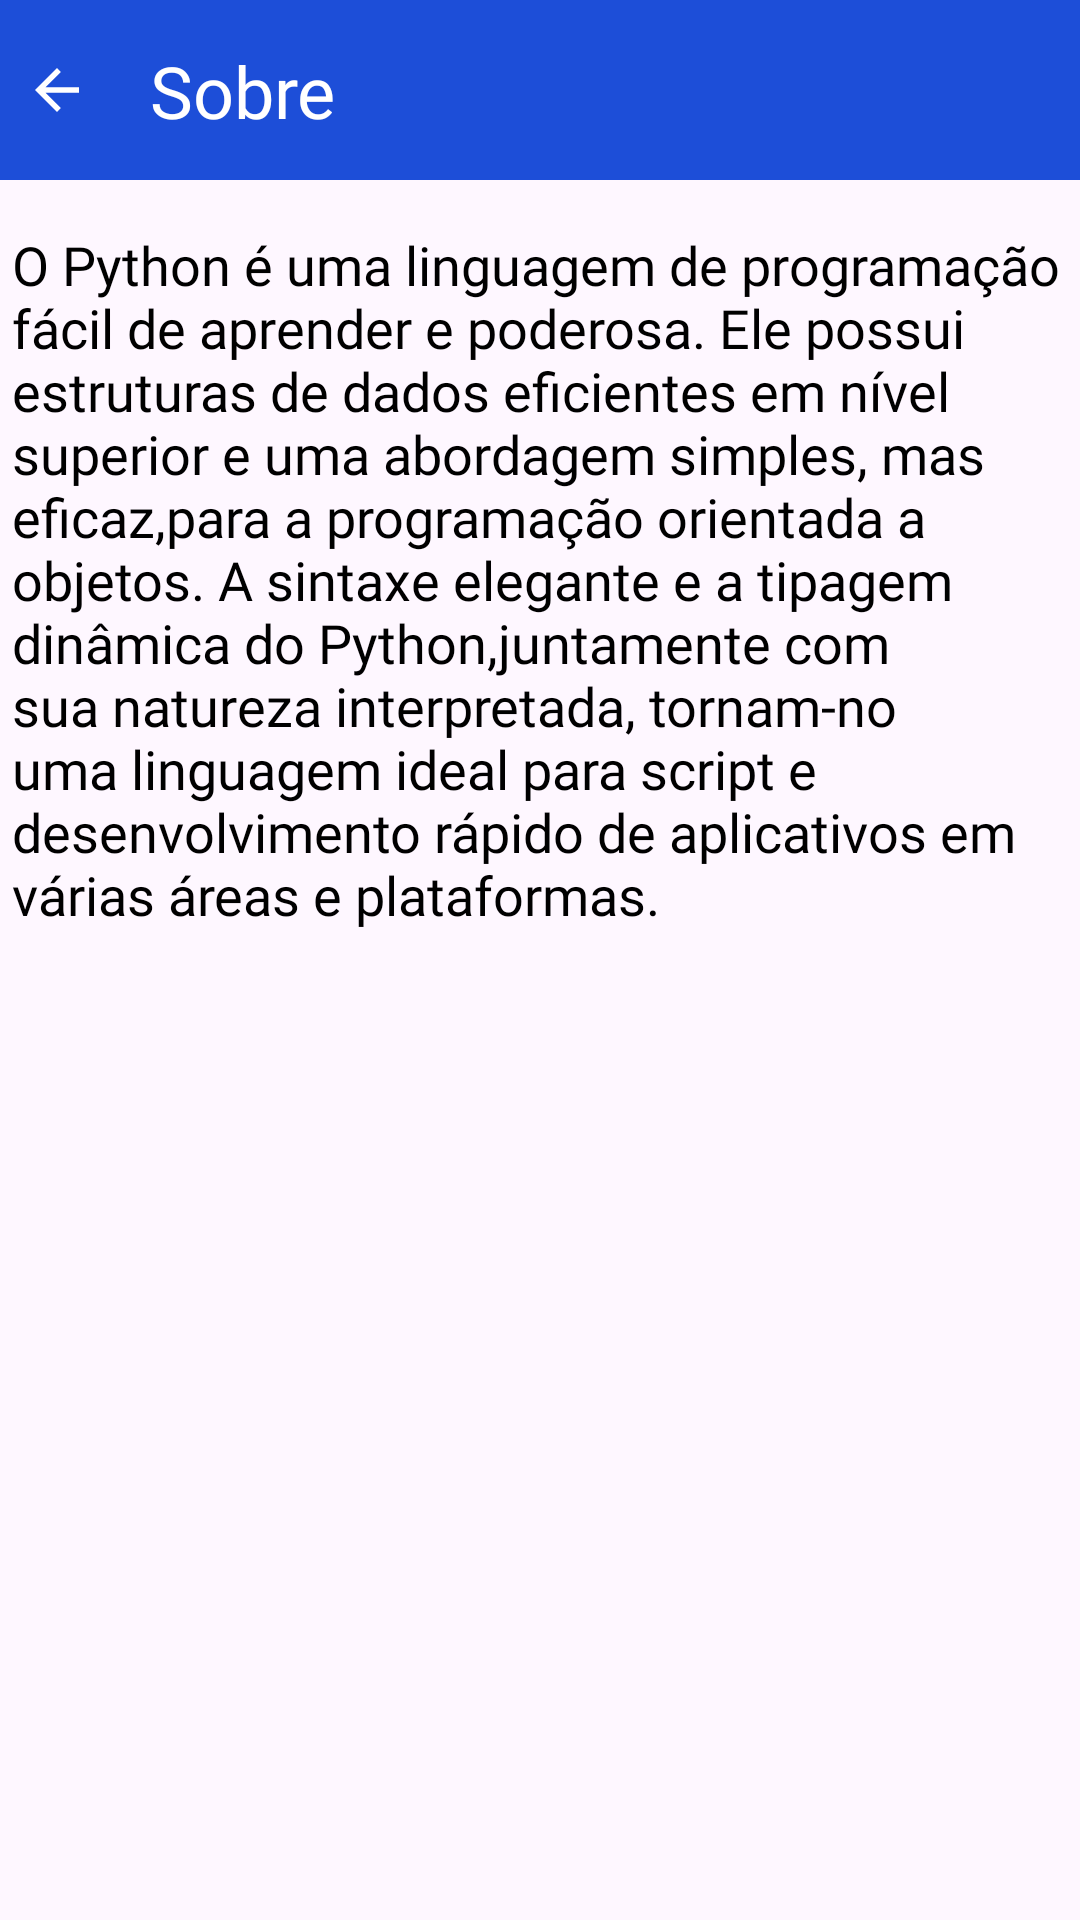

Named icons in this screenshot (1080*1920) and their centers, (x,y):
arrow back: (57,90)
